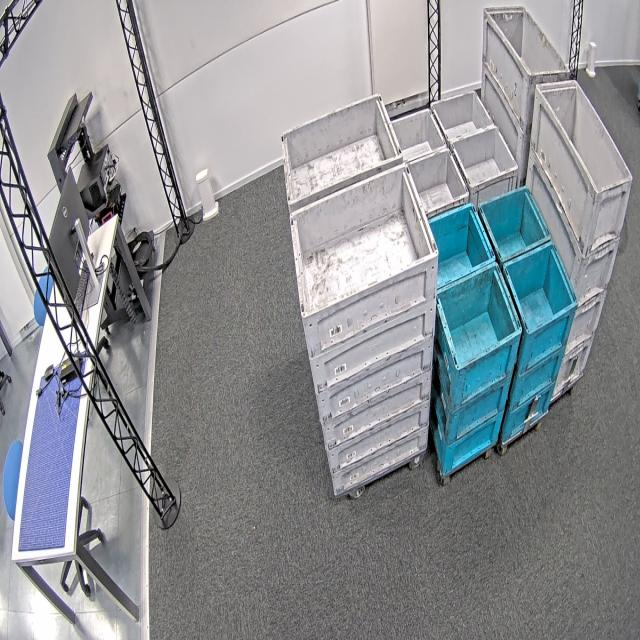Roll3G: (289, 162, 440, 320), (280, 91, 404, 207)
Roll4G: (536, 78, 633, 194), (483, 3, 571, 78)
Roll8G: (430, 89, 519, 189), (390, 108, 469, 217)
RollB8: (428, 202, 522, 371), (477, 184, 579, 336)
